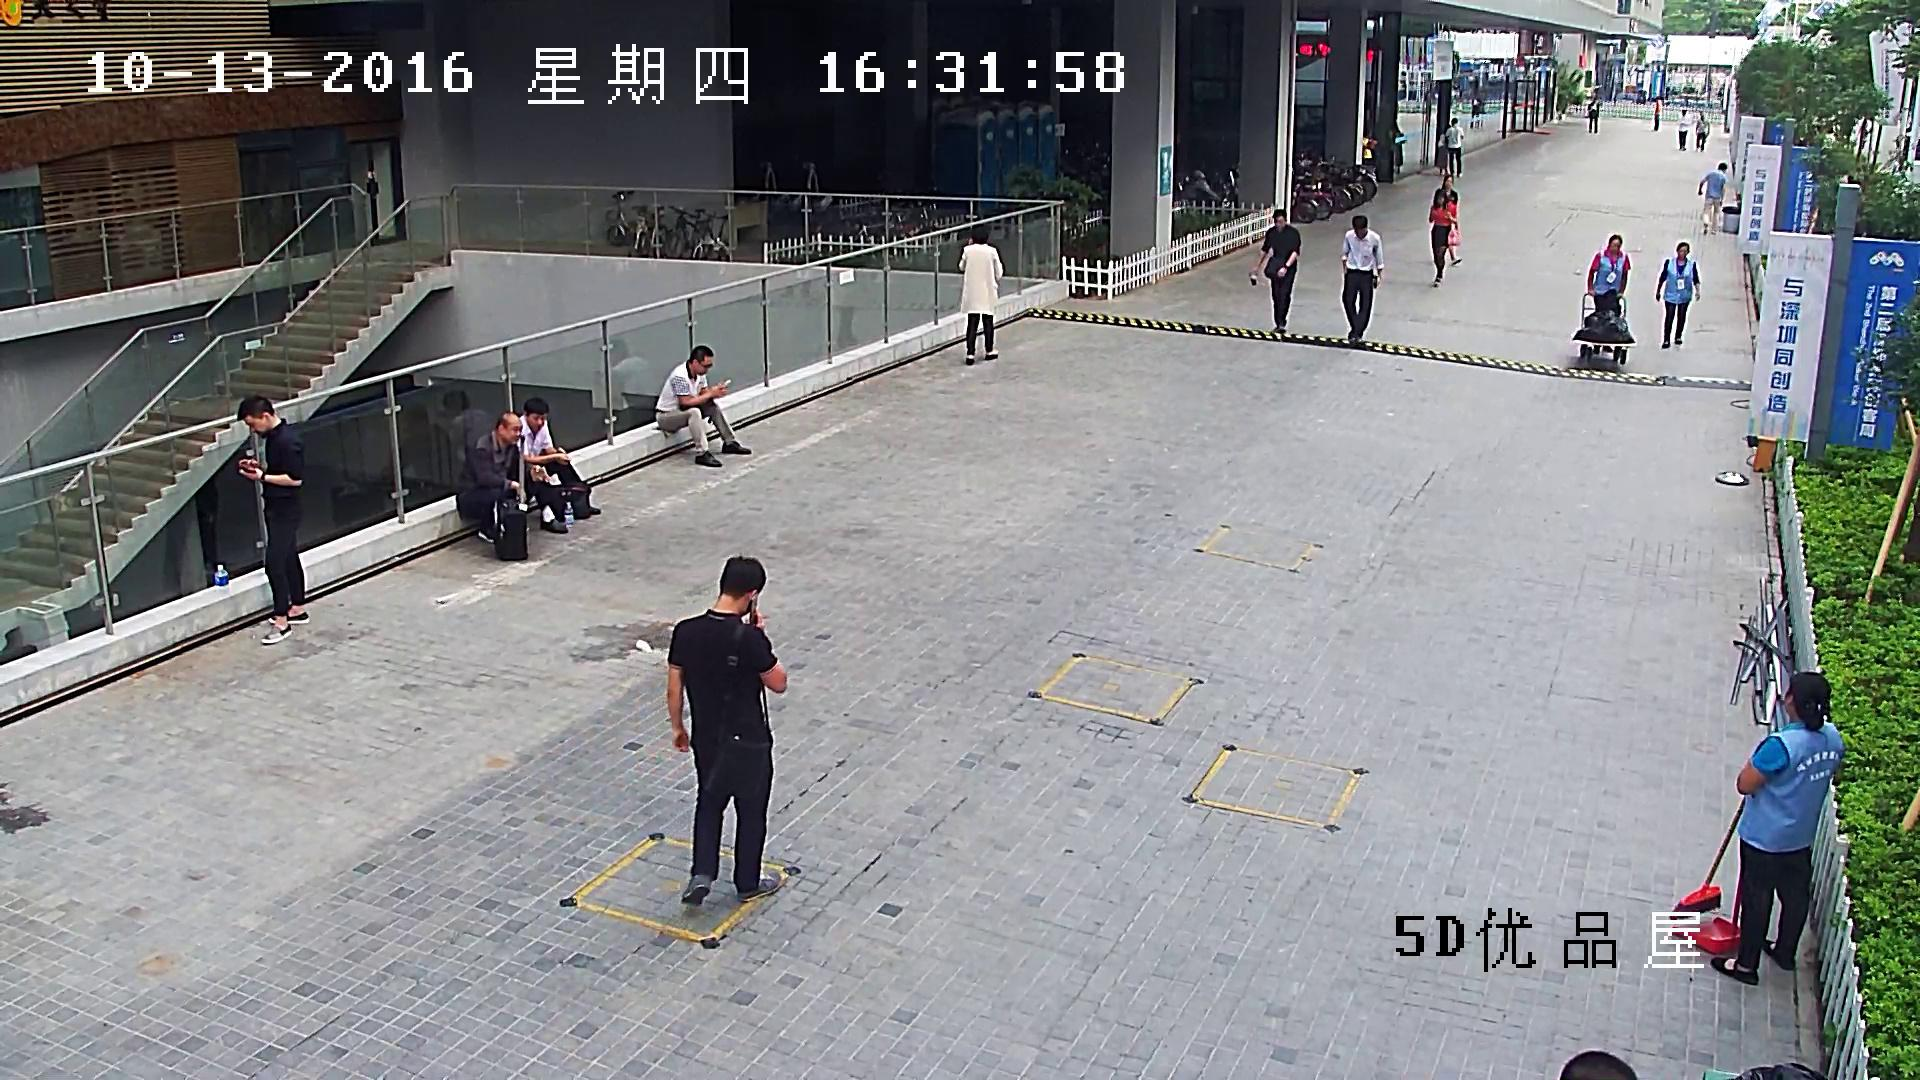person: (1668, 670, 1845, 985), (664, 554, 790, 908), (1709, 670, 1845, 985), (236, 397, 311, 646), (655, 343, 753, 469), (519, 397, 603, 535), (455, 411, 527, 561), (455, 411, 527, 545), (1572, 233, 1635, 365), (162, 475, 221, 601), (380, 403, 453, 504), (1248, 209, 1302, 332), (958, 225, 1003, 368), (591, 339, 661, 429), (1340, 213, 1385, 340), (1586, 233, 1632, 353), (1654, 241, 1701, 349), (441, 390, 493, 485), (827, 270, 863, 347), (1429, 188, 1454, 288), (1697, 161, 1728, 235), (1441, 175, 1463, 267), (1444, 117, 1463, 176), (1436, 125, 1449, 174), (1857, 119, 1872, 157), (1695, 115, 1710, 152), (1678, 108, 1690, 150), (1587, 95, 1600, 133), (1652, 97, 1662, 130)
